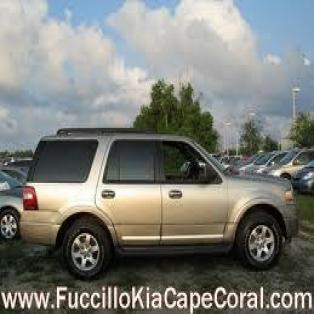Auto: (19, 124, 301, 282)
